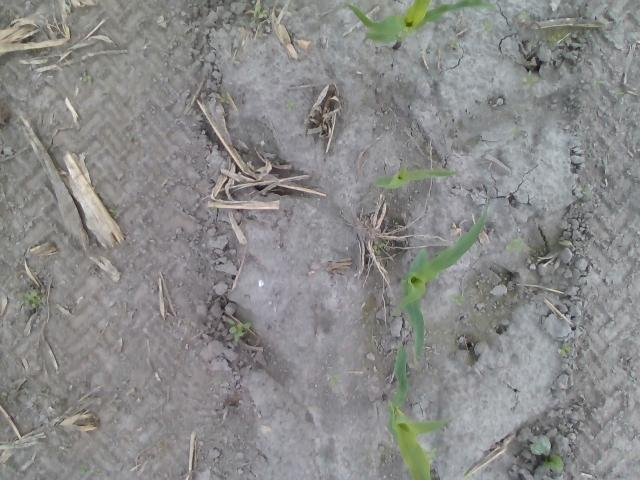Maize: (392, 195, 491, 363), (382, 340, 452, 480), (367, 0, 522, 44), (373, 166, 458, 188)
Weeds: (529, 434, 565, 474), (227, 318, 250, 343), (24, 290, 44, 309), (504, 236, 524, 252), (522, 70, 538, 88), (249, 4, 267, 19), (421, 446, 436, 462), (326, 372, 340, 388), (556, 346, 572, 358), (449, 293, 466, 304), (481, 22, 494, 35), (509, 125, 522, 138), (448, 36, 461, 48), (78, 464, 88, 478), (372, 243, 384, 254), (107, 206, 121, 215), (220, 94, 232, 103), (463, 470, 473, 480), (83, 75, 93, 85), (592, 77, 604, 85), (612, 88, 624, 96), (8, 10, 20, 18), (286, 100, 294, 112), (518, 11, 528, 19), (582, 187, 590, 196), (44, 388, 50, 396), (212, 207, 218, 213)
